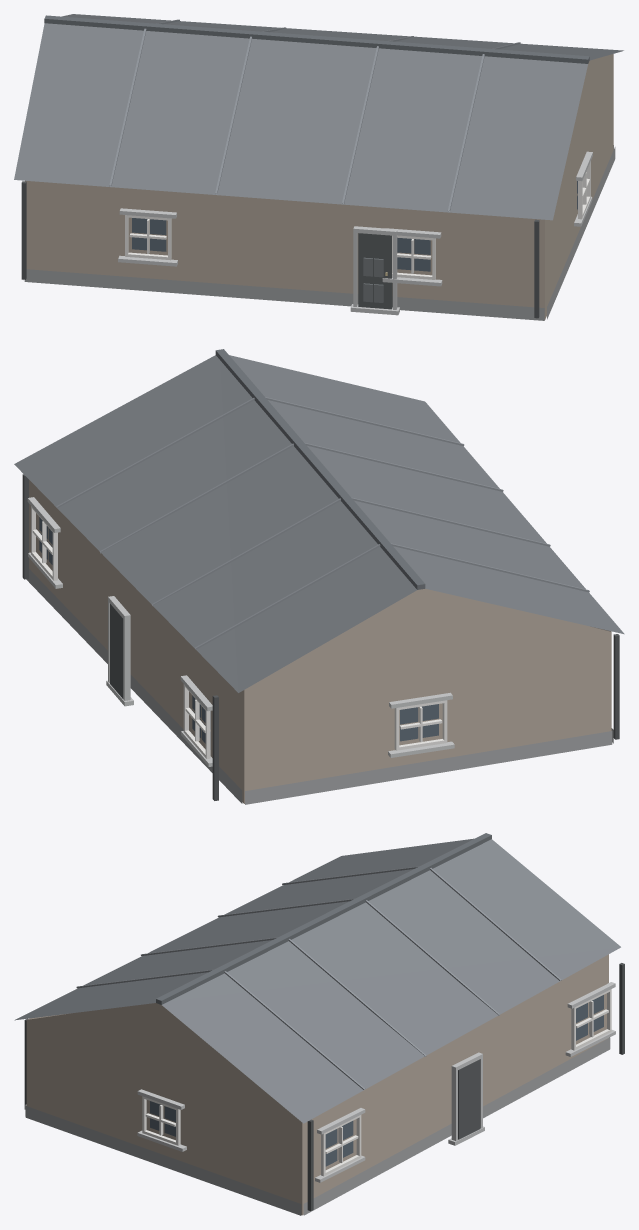
3 views of the same model, one above another, from view 1: azimuth 30°, elevation 25°; view 2: azimuth 150°, elevation 25°; view 3: azimuth 270°, elevation 25° (orthographic). The views are drawn at different scales.
Visible parts, largest first — view 1: slate, harl_brown, plinth, slate_dk, stone_band, slate_lt, frame, door_dark, pipe, door_dark_p; view 2: slate, harl_brown, plinth, slate_lt, stone_band, slate_dk, frame, pipe, door_dark; view 3: slate, harl_brown, plinth, slate_lt, slate_dk, stone_band, frame, door_dark, pipe.
Part boxes in pixels (x1=…): slate: x1=14, y1=14, x2=623, y2=220; harl_brown: x1=25, y1=54, x2=613, y2=319; plinth: x1=24, y1=145, x2=615, y2=320; slate_dk: x1=44, y1=15, x2=589, y2=63; stone_band: x1=118, y1=151, x2=592, y2=315; slate_lt: x1=109, y1=19, x2=520, y2=211; frame: x1=125, y1=161, x2=590, y2=279; door_dark: x1=358, y1=233, x2=392, y2=309; pipe: x1=21, y1=181, x2=539, y2=318; door_dark_p: x1=363, y1=257, x2=383, y2=302; slate: x1=14, y1=355, x2=624, y2=692; harl_brown: x1=29, y1=480, x2=611, y2=803; plinth: x1=26, y1=569, x2=613, y2=804; slate_lt: x1=56, y1=397, x2=589, y2=649; stone_band: x1=27, y1=497, x2=454, y2=766; slate_dk: x1=215, y1=349, x2=425, y2=589; frame: x1=31, y1=506, x2=447, y2=758; pipe: x1=22, y1=474, x2=619, y2=800; door_dark: x1=110, y1=604, x2=123, y2=698; slate: x1=14, y1=838, x2=620, y2=1123; harl_brown: x1=26, y1=954, x2=608, y2=1215; plinth: x1=25, y1=1037, x2=610, y2=1215; slate_lt: x1=76, y1=866, x2=561, y2=1089; slate_dk: x1=156, y1=833, x2=491, y2=1004; stone_band: x1=137, y1=982, x2=615, y2=1182; frame: x1=142, y1=989, x2=611, y2=1176; door_dark: x1=458, y1=1059, x2=480, y2=1139; pipe: x1=24, y1=963, x2=624, y2=1211.
Bounding box in the file's own units: 16.84 × 5 × 16.24.
